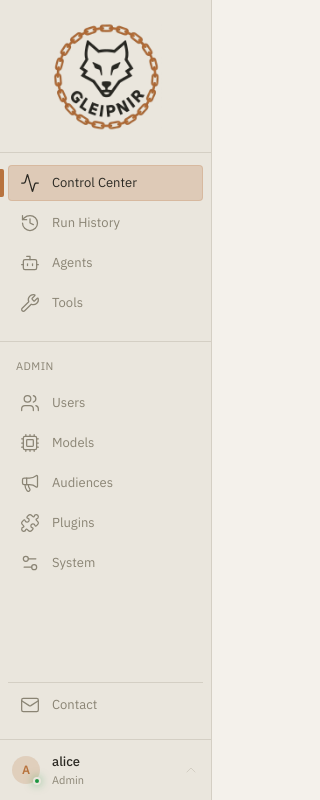
Layout › footer opens user menu on click
The width and height of the screenshot is (320, 800).
Step 1. Click the button with aria-label "user menu" → click(106, 770), box [0,739,211,799]
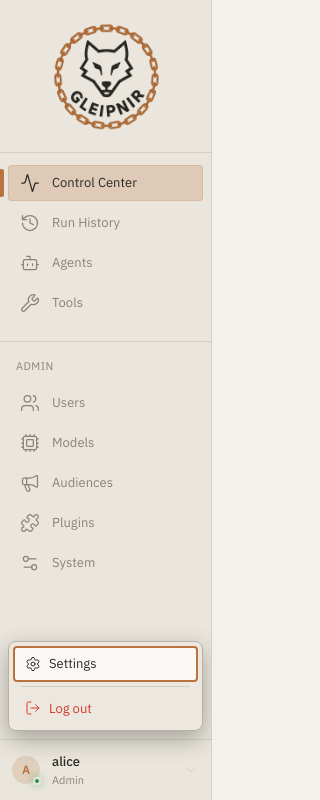
expect the menu item "Settings" is shown: met, box [13,646,198,682]
expect the menu item "Log out" is shown: met, box [13,690,198,726]
